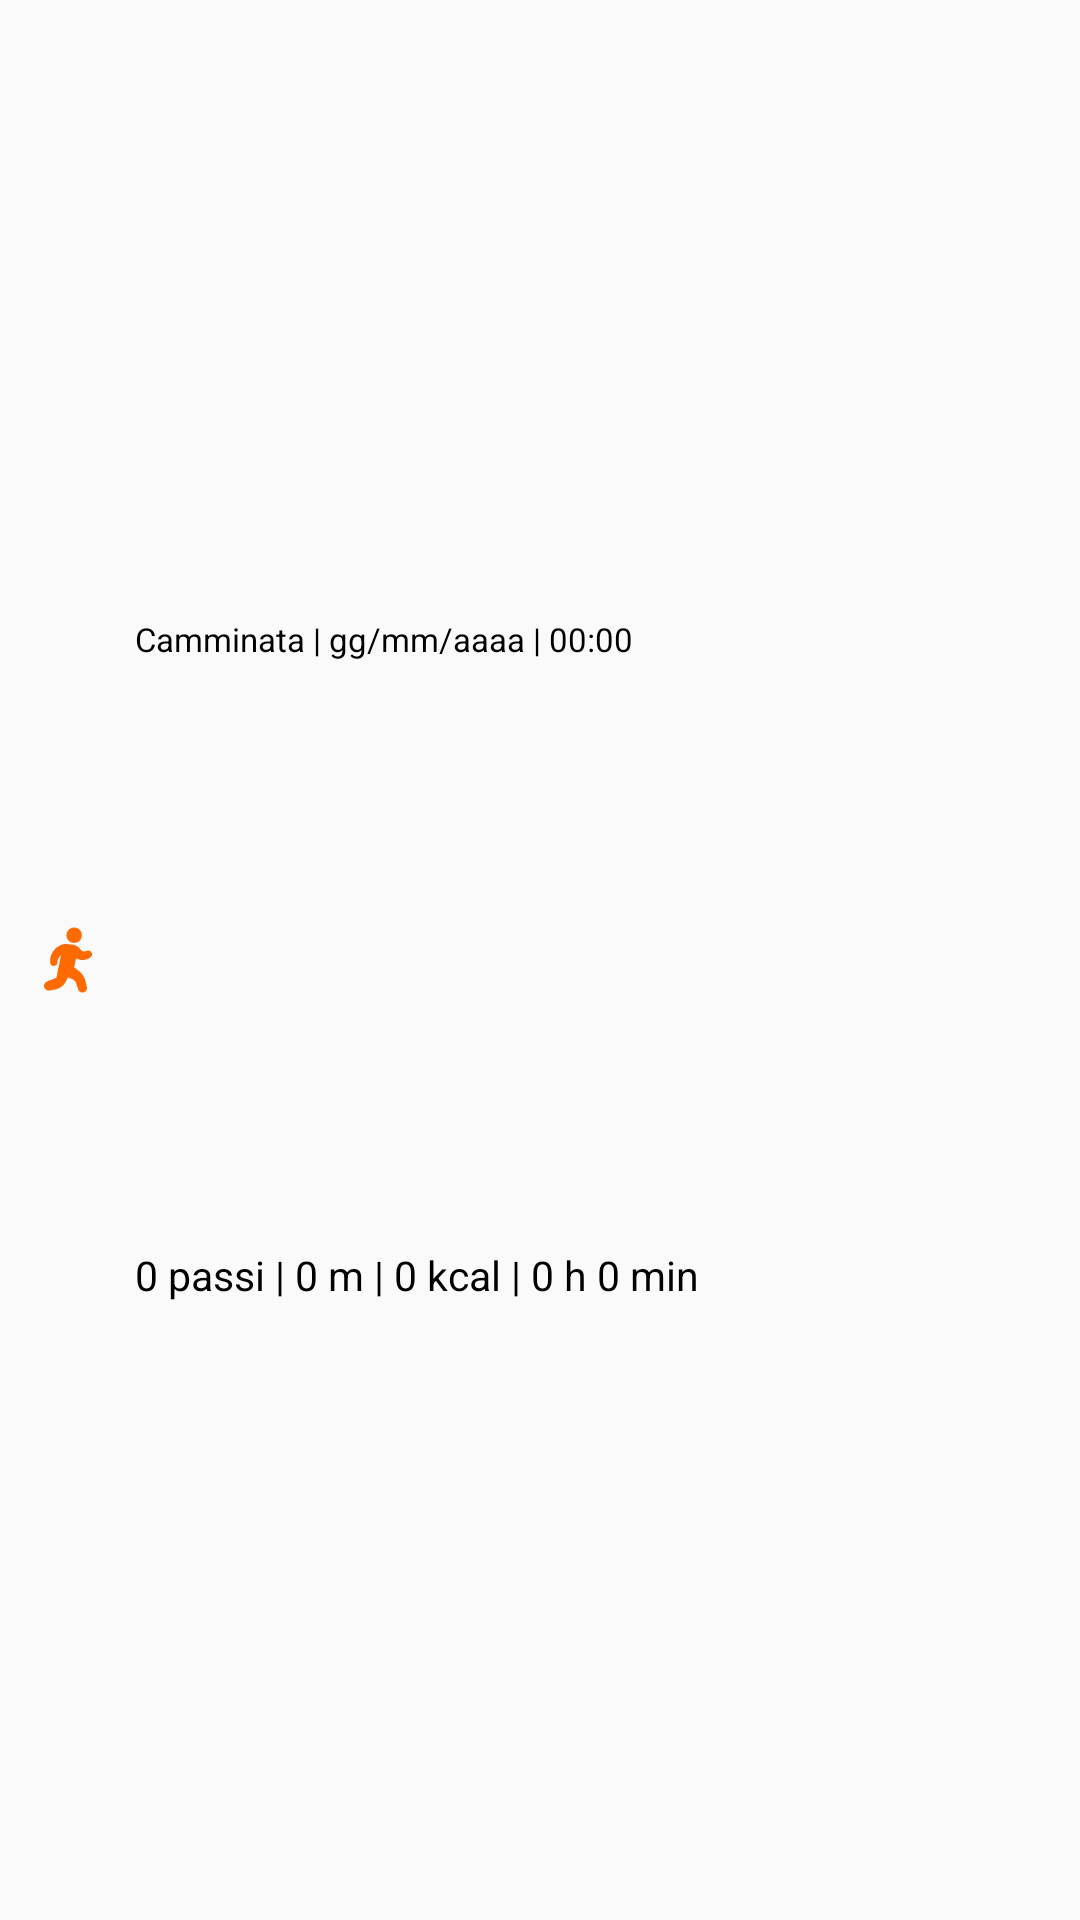

Point at icon controls on the screen. Image size 1080×1920, points as (x,y).
walk: (68,960)
